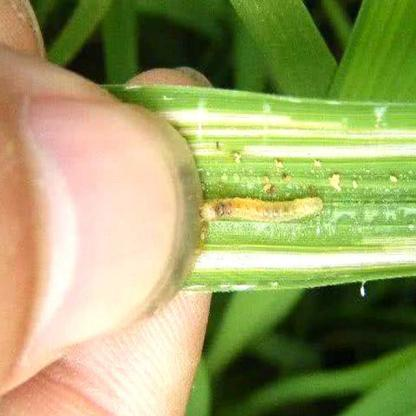leaf-folder: (195, 154, 326, 250)
